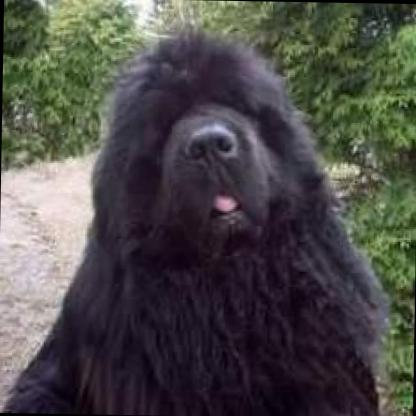Newfoundland: (1, 12, 396, 416)
